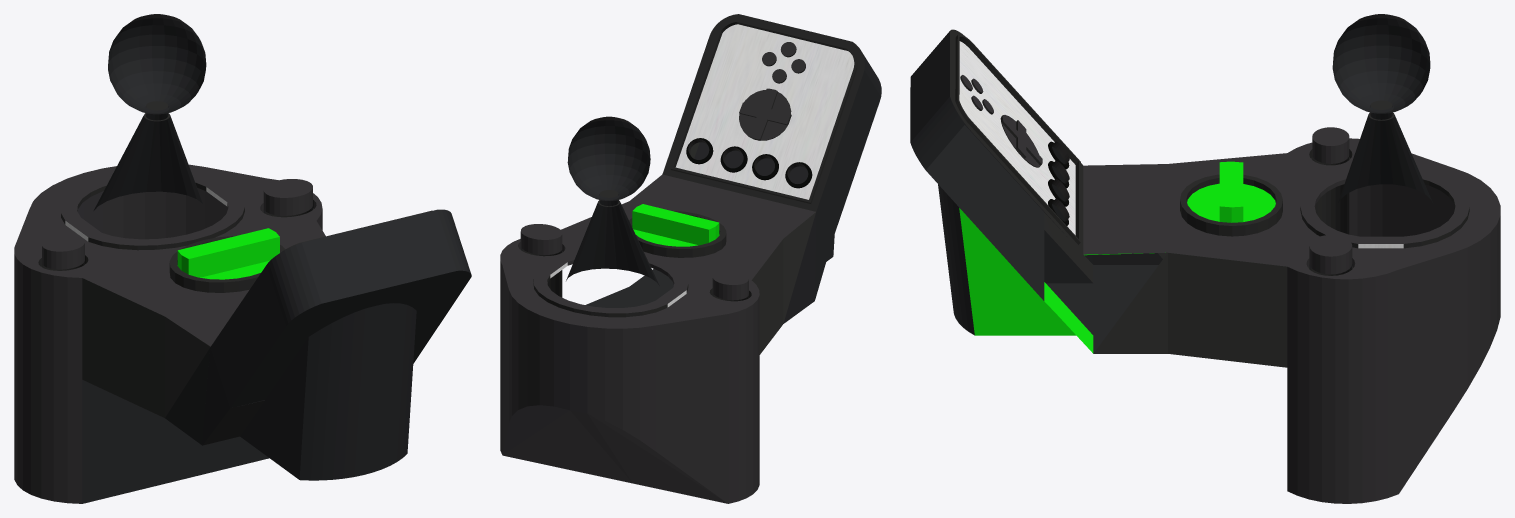
File: joystick_2.obj
3 views of the same model, side by side, from view 1: azimuth 30°, elevation 25°; view 2: azimuth 150°, elevation 25°; view 3: azimuth 270°, elevation 25° (orthographic). The views are drawn at different scales.
Visible parts, largest first — view 1: joystick_2; view 2: joystick_2; view 3: joystick_2.
Part boxes in pixels (bbox=[...]): joystick_2: bbox=[14, 14, 471, 503]; joystick_2: bbox=[500, 14, 881, 503]; joystick_2: bbox=[910, 14, 1500, 503].
Bounding box in the file's own units: 6.1 × 8.43 × 10.78.
Materials: 11 (11 with a texture image).
